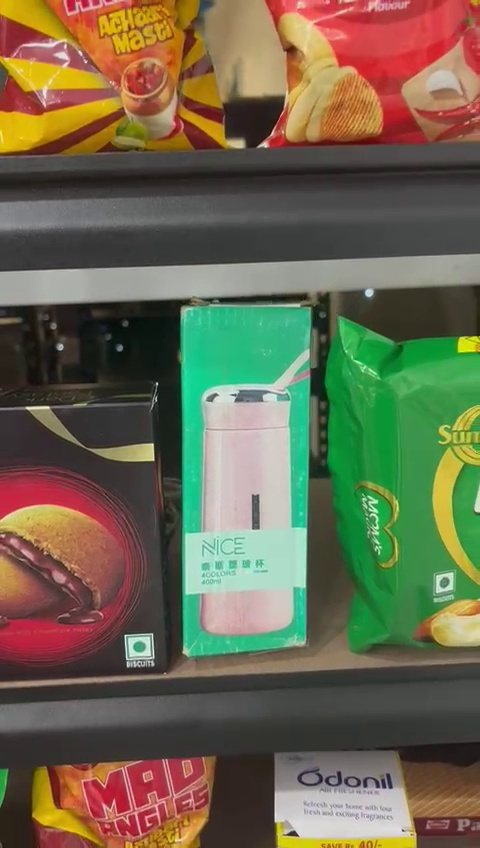Bottle: (179, 303, 310, 655)
